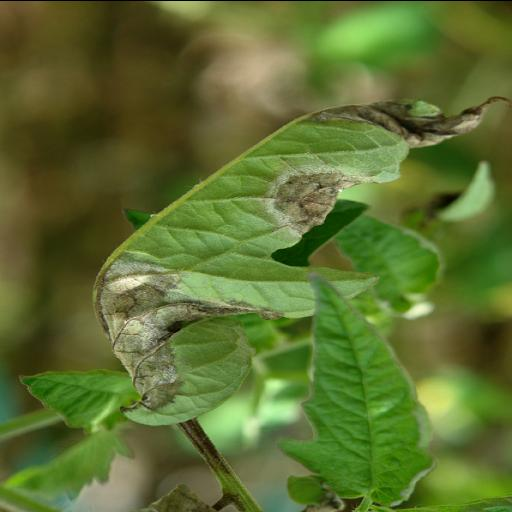Healthy: (278, 270, 432, 512)
Late Blight: (84, 94, 502, 427)
